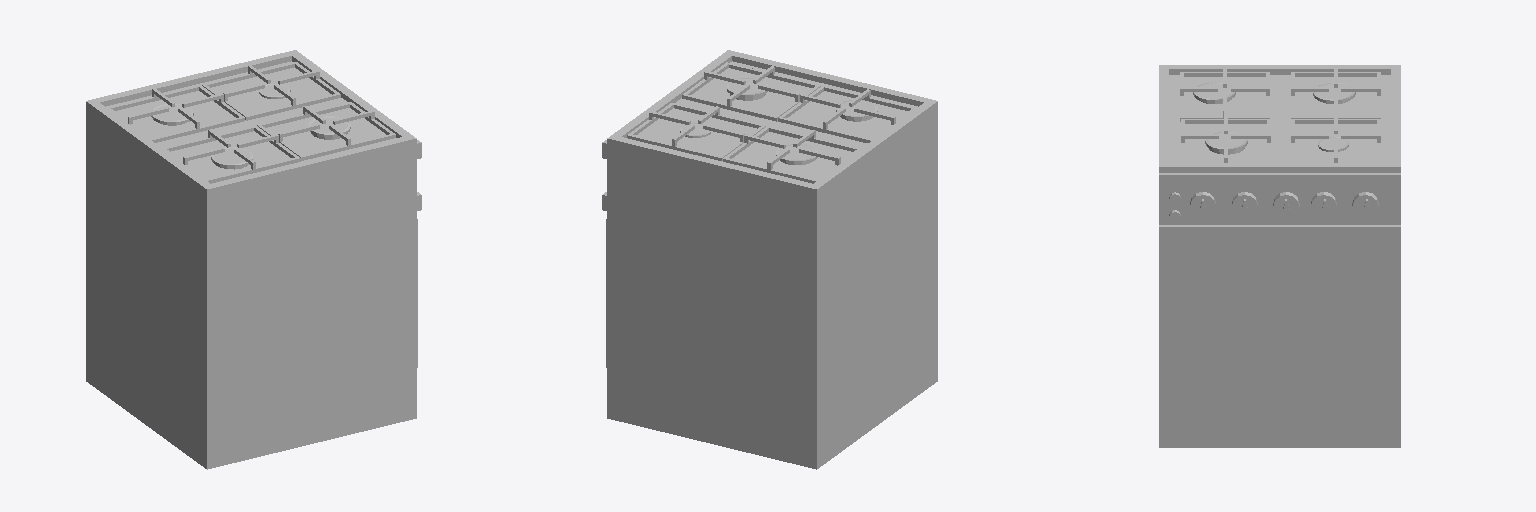
Rendered from Fogao.obj.
3 renders of one model, left to right at view 1: azimuth 30°, elevation 25°; view 2: azimuth 150°, elevation 25°; view 3: azimuth 270°, elevation 25°, orthographic.
Parts seen in each view (by area): view 1: group86; view 2: group86; view 3: group86.
Boxes of the visible parts, <box> form: group86: <box>86,50,421,469</box>; group86: <box>602,50,937,469</box>; group86: <box>1159,65,1400,447</box>.
Size of the model in its own units: 1.49 by 1.85 by 1.42.